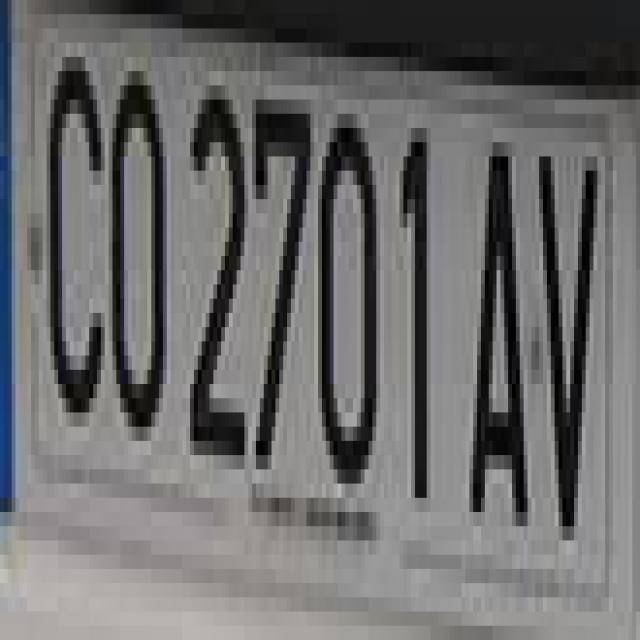Autre: (4, 5, 636, 626)
